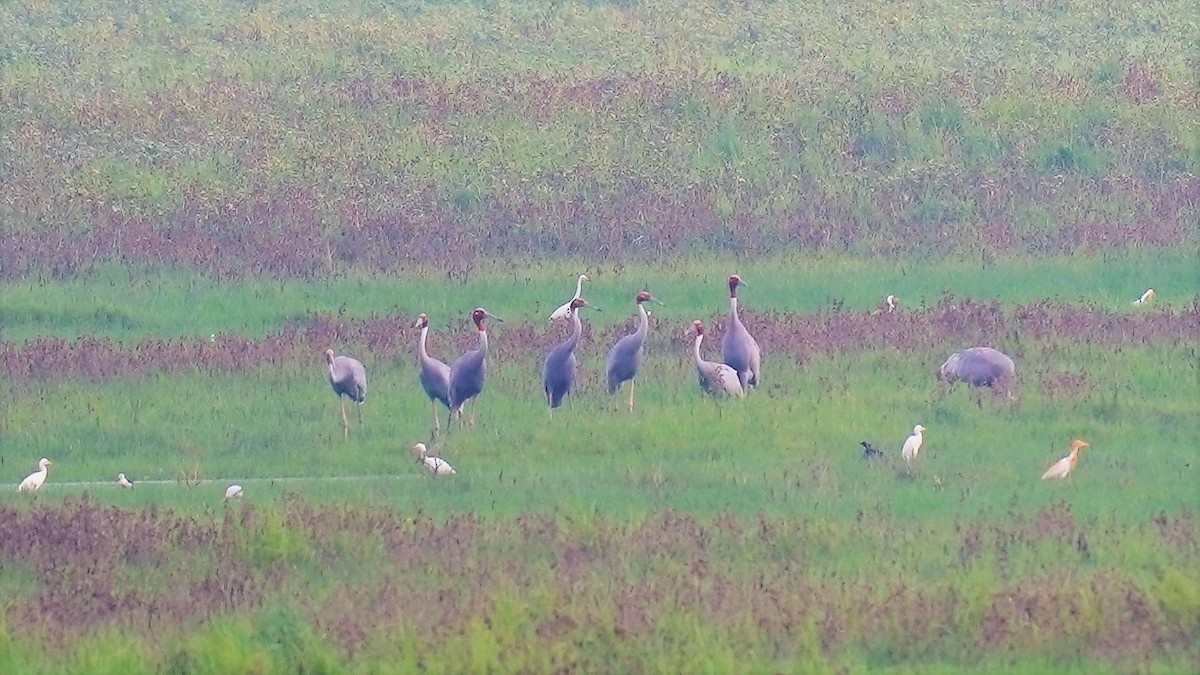crane: (537, 299, 608, 411), (602, 290, 665, 404), (717, 271, 772, 387), (682, 318, 746, 408), (453, 306, 503, 418), (413, 312, 460, 420), (317, 344, 375, 426)
